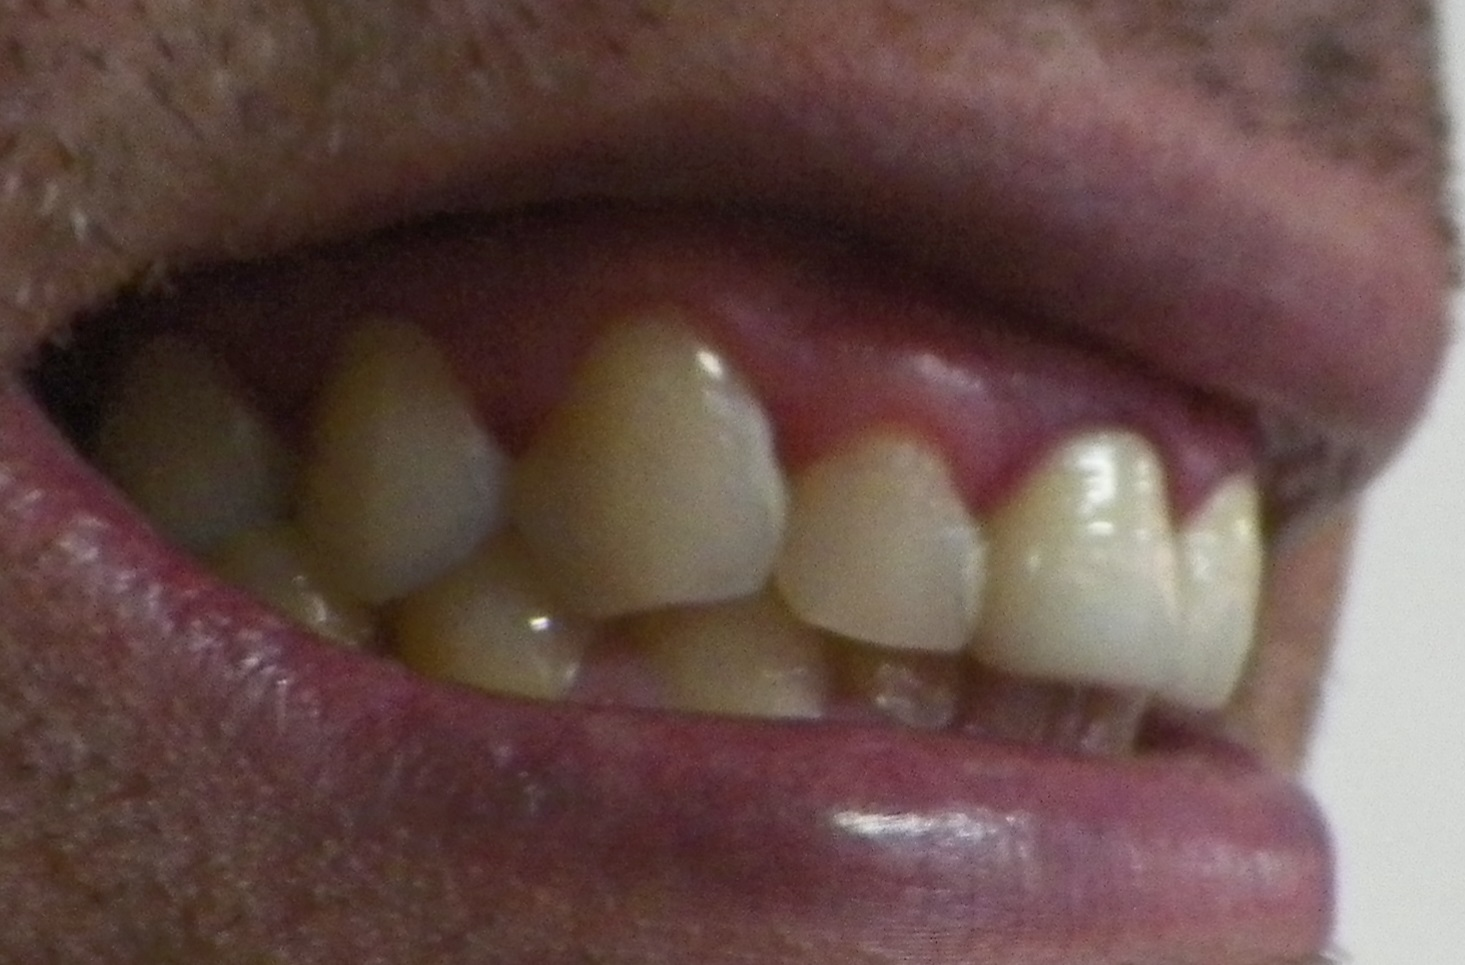boca: (115, 319, 1279, 766)
